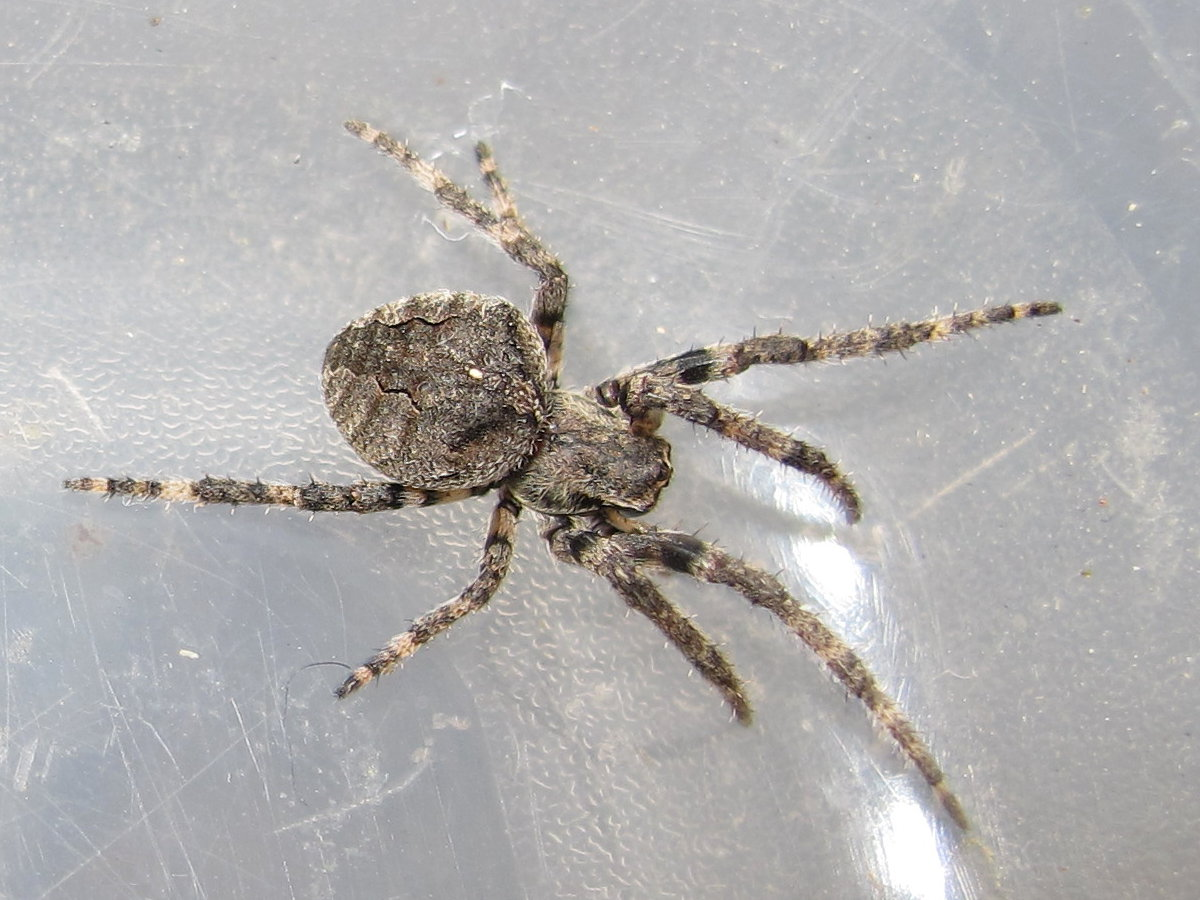spider: (47, 32, 1093, 835)
